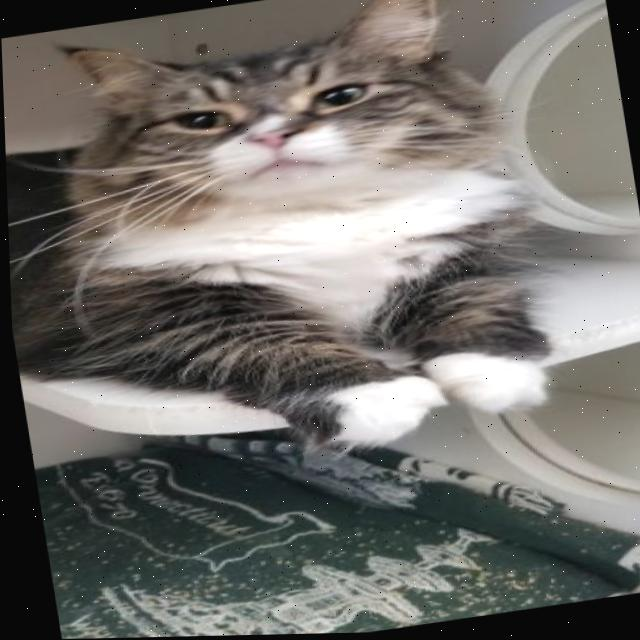Maine Coon: (0, 0, 563, 494)
